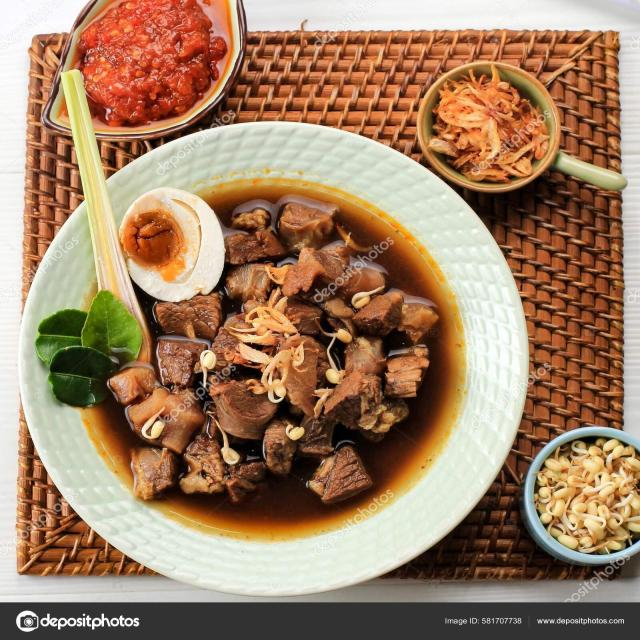Rawon: (62, 178, 446, 524)
